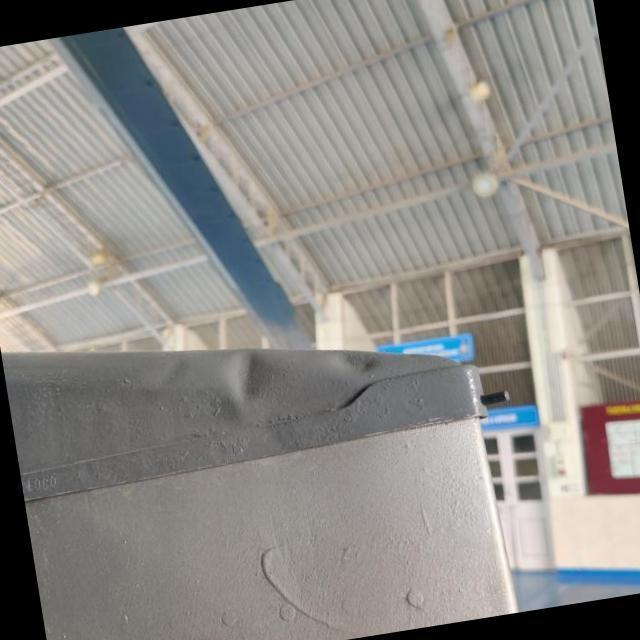dent: (213, 348, 279, 412), (150, 348, 196, 399), (327, 351, 385, 384)
